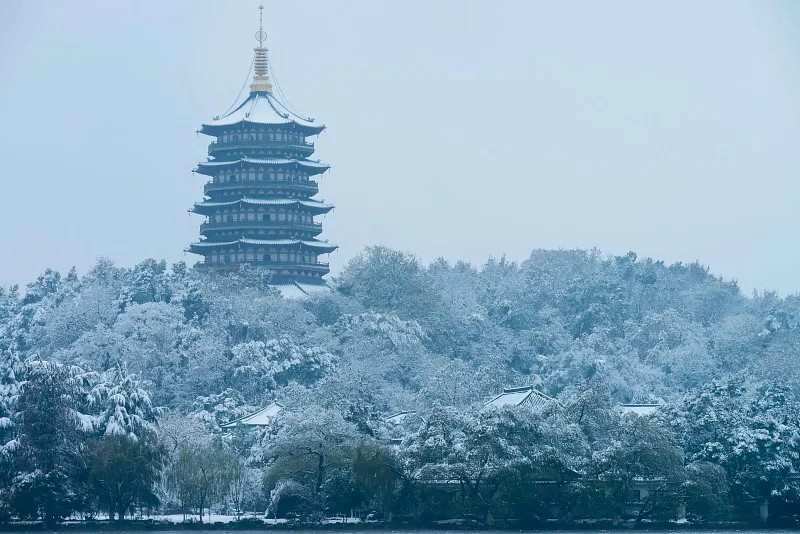Leifeng: (183, 3, 341, 302)
